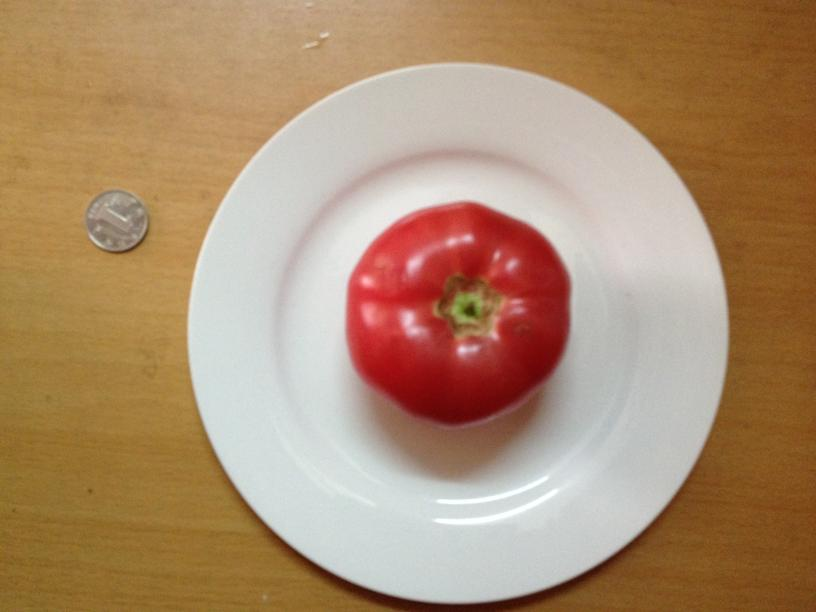coin: (84, 189, 149, 252)
tomato: (345, 203, 569, 426)
